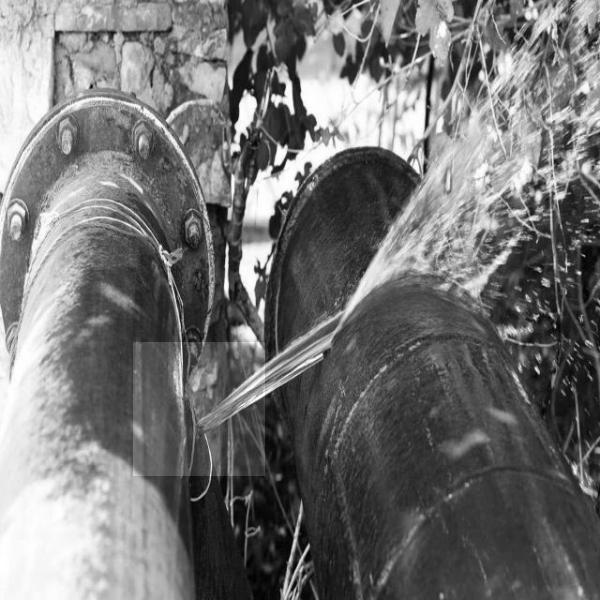water: (133, 342, 265, 476)
